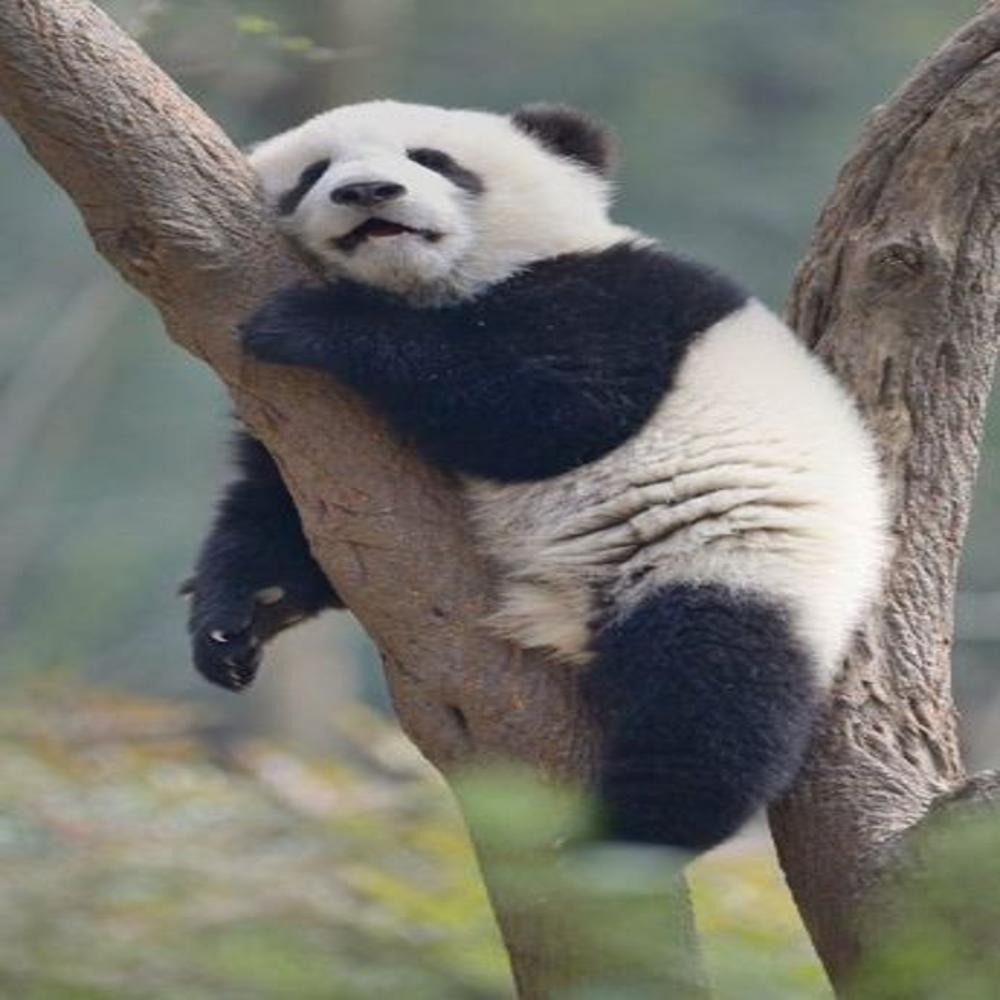panda: (190, 90, 899, 880)
